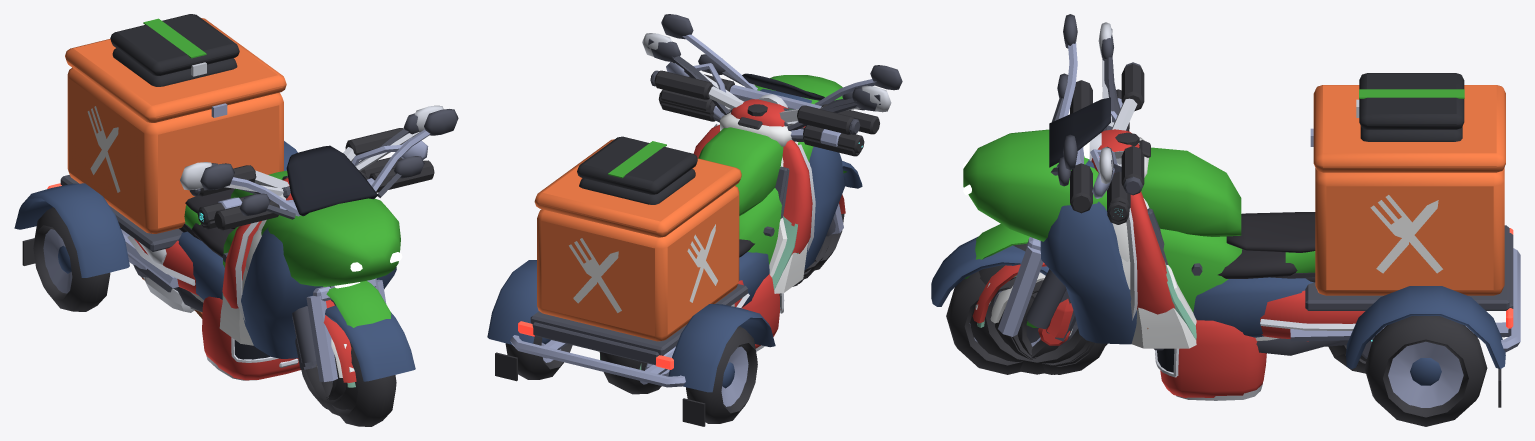
Rendered from vehicles.glb.
3 renders of one model, left to right at view 1: azimuth 30°, elevation 25°; view 2: azimuth 150°, elevation 25°; view 3: azimuth 270°, elevation 25°, orthographic. The views are drawn at different scales.
Visible parts, largest first — view 1: body (×5), box (×2), steer (×5), box_lid (×2), wheel_rear_r, helmet, wheel_front (×2); view 2: body (×5), box (×2), steer (×6), box_lid (×2), wheel_rear_r, wheel_rear_l, helmet, wheel_rear; view 3: body (×5), box (×2), steer (×5), box_lid (×2), wheel_rear_l, wheel_front (×4), helmet.
Boxes of the visible parts, <box> form: body (×5): <box>14,141,424,358</box>; box (×2): <box>67,48,283,233</box>; steer (×5): <box>180,105,458,387</box>; box_lid (×2): <box>65,14,286,122</box>; wheel_rear_r: <box>33,207,110,311</box>; helmet: <box>202,296,300,380</box>; wheel_front (×2): <box>306,299,396,426</box>; body (×5): <box>487,54,864,426</box>; box (×2): <box>537,168,739,341</box>; steer (×6): <box>642,14,902,236</box>; box_lid (×2): <box>534,136,741,237</box>; wheel_rear_r: <box>686,326,757,423</box>; wheel_rear_l: <box>505,336,572,379</box>; helmet: <box>742,274,784,351</box>; wheel_rear: <box>599,352,661,394</box>; body (×5): <box>963,73,1520,407</box>; box (×2): <box>1315,126,1504,295</box>; steer (×5): <box>931,14,1150,345</box>; box_lid (×2): <box>1310,73,1505,172</box>; wheel_rear_l: <box>1364,316,1487,426</box>; wheel_front (×4): <box>946,244,1106,374</box>; helmet: <box>1155,319,1266,400</box>.
Bounding box in the file's own units: 1.38 × 1.34 × 2.39.
